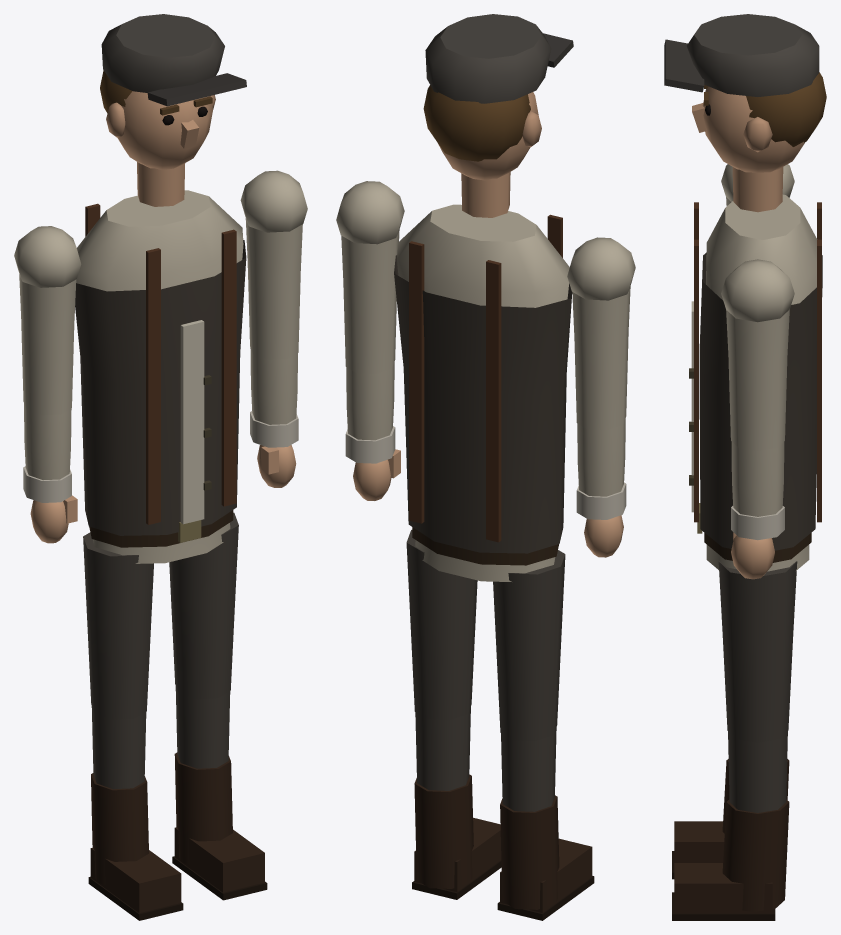
The model's file is man_cap.glb.
The picture shows the model from 3 angles, left to right: view 1: azimuth 30°, elevation 25°; view 2: azimuth 150°, elevation 25°; view 3: azimuth 270°, elevation 25°; orthographic projection.
Parts seen in each view (by area): view 1: Torso, LegL2, LegR2, LegL, ArmL, ArmR, LegR, ArmL2, ArmR2; view 2: Torso, LegL2, LegR2, LegL, ArmL, ArmR, LegR, ArmR2, ArmL2; view 3: Torso, LegR2, LegR, ArmR, ArmR2, LegL2, ArmL.
Part boxes in pixels (x1,y1,x2,y2): Torso: (75,14,246,563); LegL2: (88,706,183,920); LegR2: (172,686,267,900); LegL: (83,532,153,719); ArmL: (14,226,81,415); ArmR: (240,170,307,359); LegR: (169,512,238,699); ArmL2: (23,403,77,543); ArmR2: (250,347,298,487); Torso: (394,14,573,581); LegL2: (497,727,594,920); LegR2: (412,706,501,899); LegL: (493,550,565,740); ArmL: (567,237,635,430); ArmR: (336,181,404,373); LegR: (406,530,477,720); ArmR2: (345,362,400,500); ArmL2: (576,418,626,557); Torso: (664,14,826,571); LegR2: (672,731,789,920); LegR: (718,561,797,742); ArmR: (721,259,794,450); ArmR2: (731,442,784,579); LegL2: (672,759,789,879); ArmL: (721,164,794,205).
Size of the model in its own units: 0.68 by 1.92 by 0.3307.
